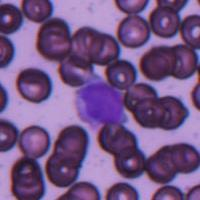L: (74, 75, 125, 130)
